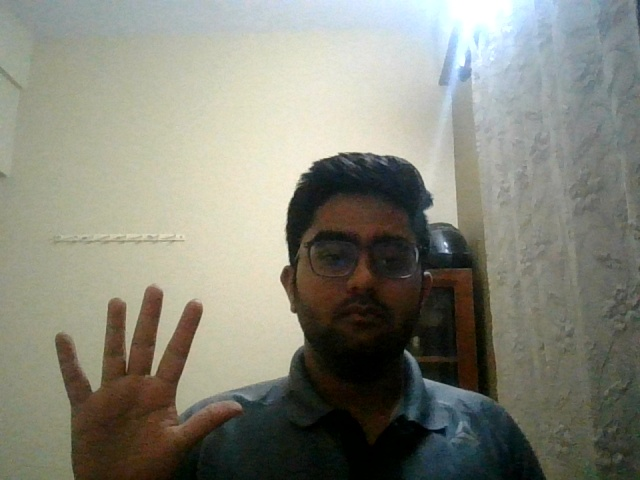Hello: (32, 273, 258, 480)
